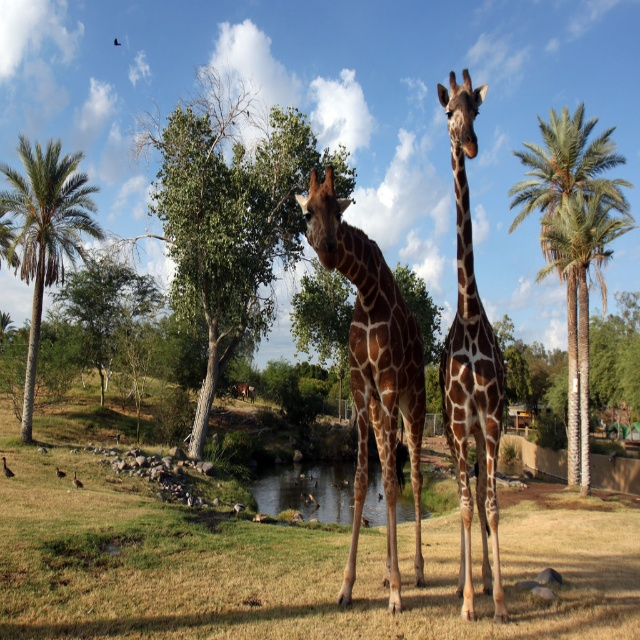Giraffe: (294, 165, 426, 616), (436, 67, 507, 626)
